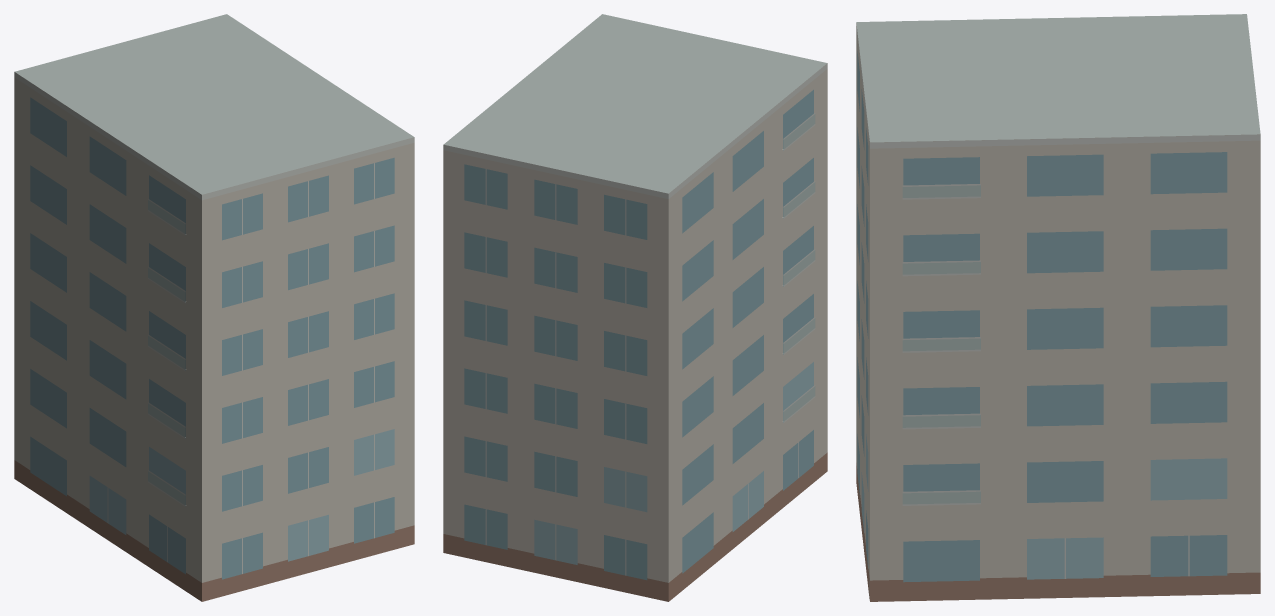
The model's file is survey-upis-32913984.glb.
The picture shows the model from 3 angles, left to right: view 1: azimuth 30°, elevation 25°; view 2: azimuth 150°, elevation 25°; view 3: azimuth 270°, elevation 25°; orthographic projection. The views are drawn at different scales.
Visible parts, largest first — view 1: survey-upis-32913984.tmp; view 2: survey-upis-32913984.tmp; view 3: survey-upis-32913984.tmp.
Part boxes in pixels (left/top/right/bottom): survey-upis-32913984.tmp: left=14, top=14, right=414, bottom=601; survey-upis-32913984.tmp: left=443, top=14, right=827, bottom=601; survey-upis-32913984.tmp: left=856, top=14, right=1260, bottom=601.
Size of the model in its own units: 10.77 by 17.95 by 14.32.
